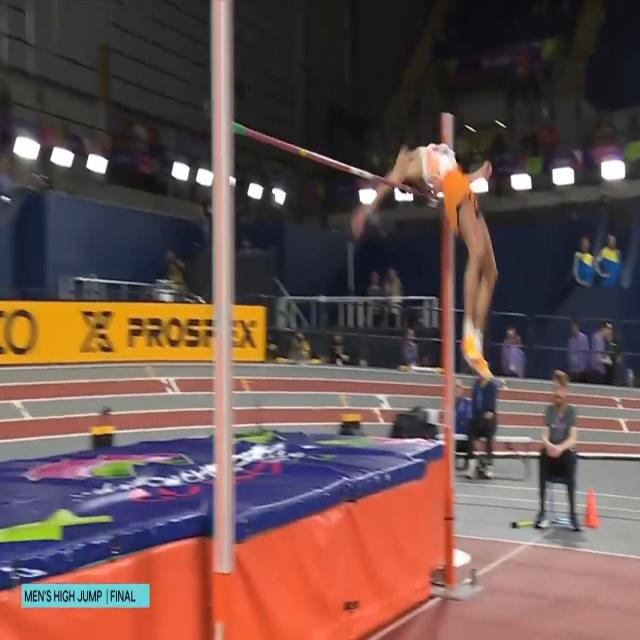jump: (349, 140, 499, 382)
